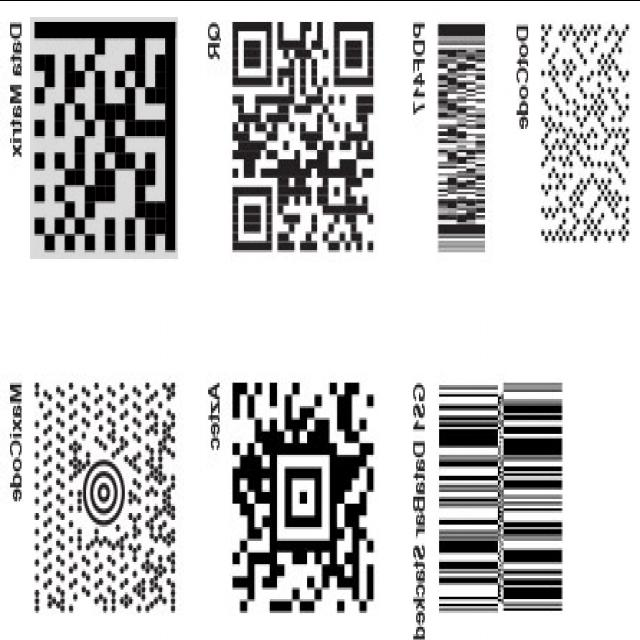DataMatrix: (30, 17, 178, 258)
